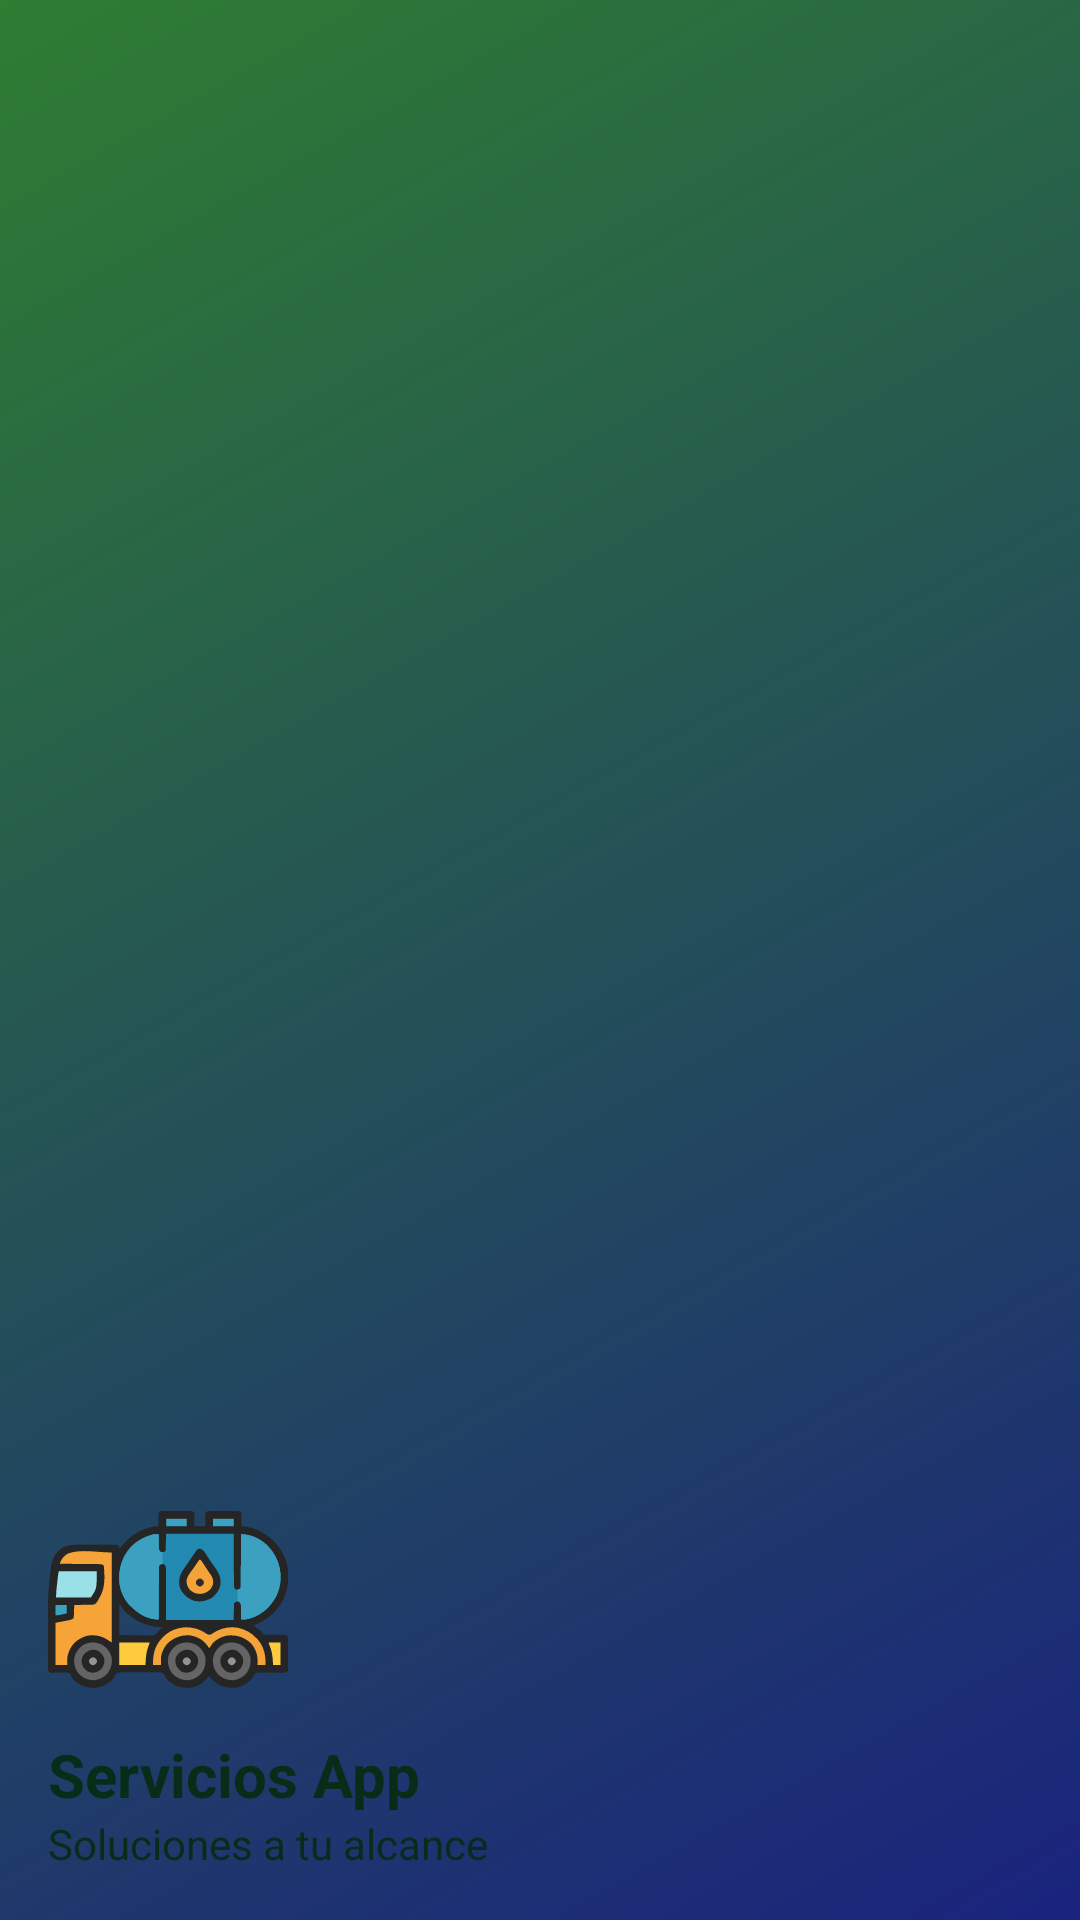

Screen size 1080px x 1920px. Icon name, then its center in pixels as (x=x, y=y):
gas truck: (x=168, y=1599)
